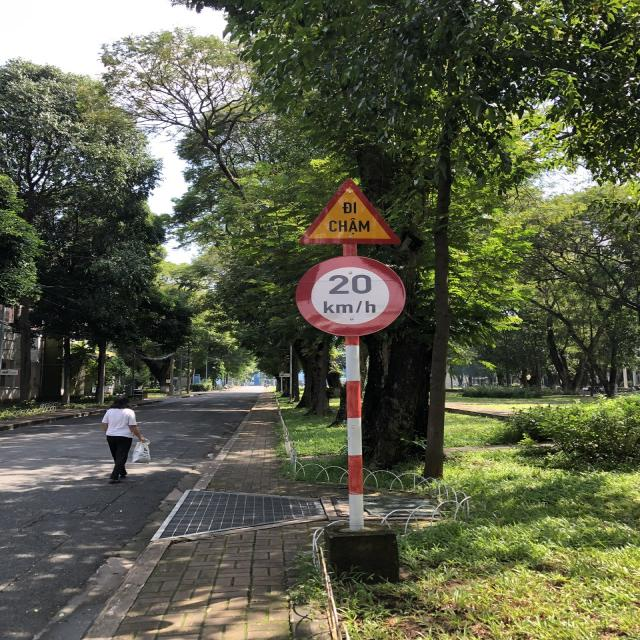Bien bao di cham: (287, 172, 406, 248)
Bien bao toc do toi da cho phep: (287, 250, 417, 342)
